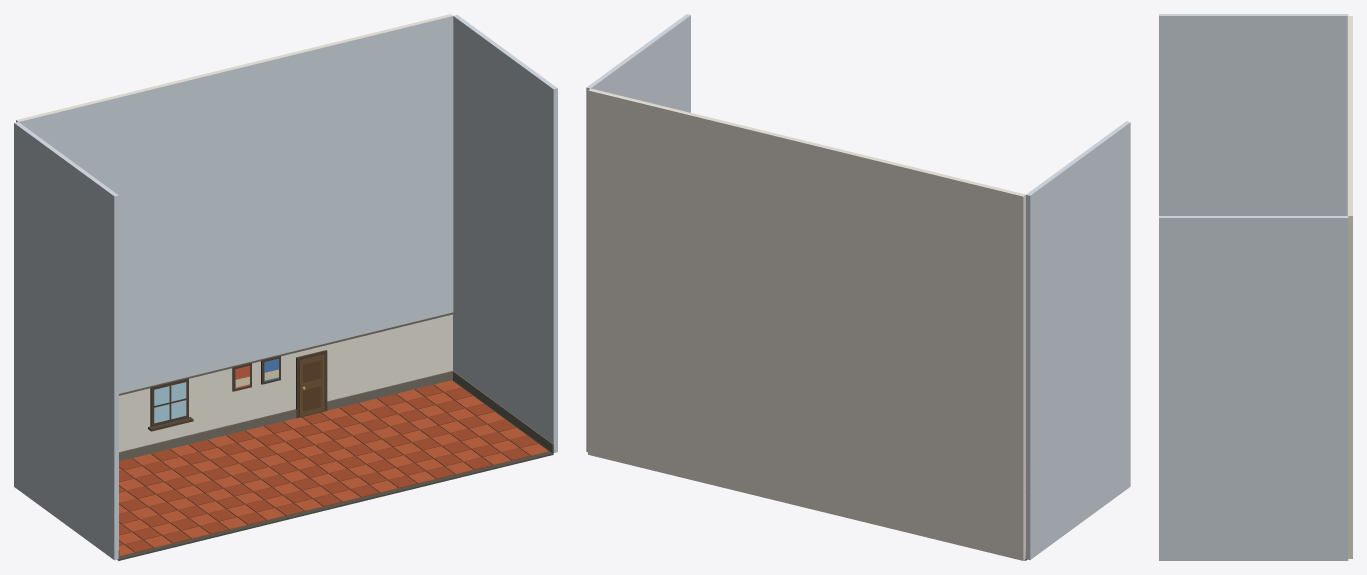
File: room_colonial_stone.glb
The picture shows the model from 3 angles, left to right: view 1: azimuth 30°, elevation 25°; view 2: azimuth 150°, elevation 25°; view 3: azimuth 270°, elevation 25°; orthographic projection. The views are drawn at different scales.
Visible parts, largest first — view 1: room; view 2: room; view 3: room.
Part boxes in pixels (left/top/right/bottom): room: left=14, top=14, right=557, bottom=560; room: left=586, top=14, right=1130, bottom=560; room: left=1159, top=14, right=1352, bottom=560.
Size of the model in its own units: 30.6 by 24.11 by 12.3.
